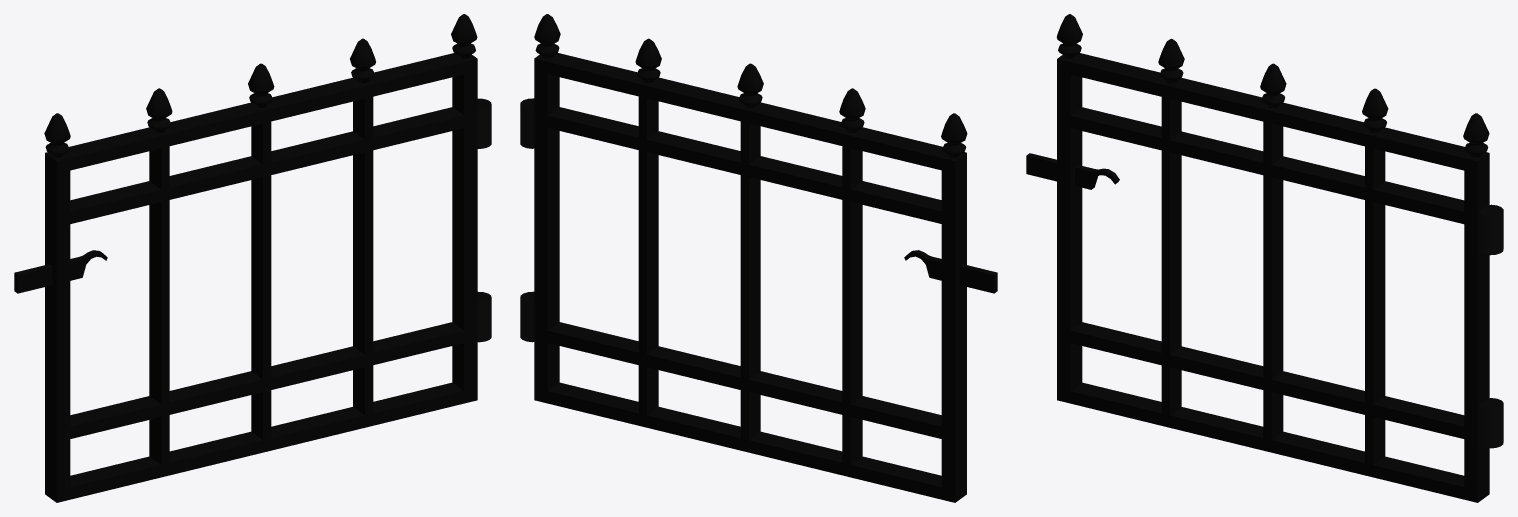
The model's file is gate.glb.
The picture shows the model from 3 angles, left to right: view 1: azimuth 30°, elevation 25°; view 2: azimuth 150°, elevation 25°; view 3: azimuth 330°, elevation 25°; orthographic projection.
Visible parts, largest first — view 1: gate; view 2: gate; view 3: gate.
Part boxes in pixels (x1,y1,x2,y2): gate: (14, 14, 491, 502); gate: (520, 14, 997, 502); gate: (1026, 14, 1503, 502).
Size of the model in its own units: 2.79 by 2.16 by 0.1398.
Materials: 1 (1 with a texture image).
